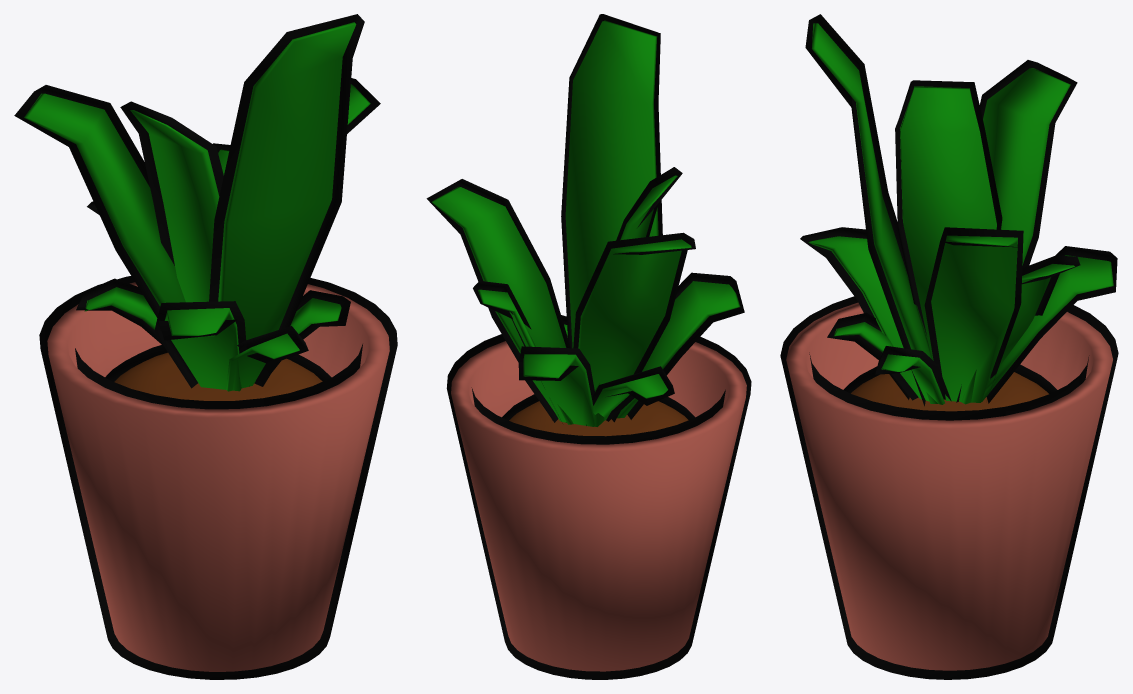
Rendered from THE MACETA 1.fbx.
3 views of the same model, side by side, from view 1: azimuth 30°, elevation 25°; view 2: azimuth 150°, elevation 25°; view 3: azimuth 270°, elevation 25° (orthographic). The views are drawn at different scales.
Visible parts, largest first — view 1: Maceta; view 2: Maceta; view 3: Maceta.
Part boxes in pixels (x1,y1,x2,y2): Maceta: [14, 14, 397, 679]; Maceta: [426, 14, 751, 679]; Maceta: [780, 14, 1118, 679].
Size of the model in its own units: 52.09 by 99.87 by 49.
